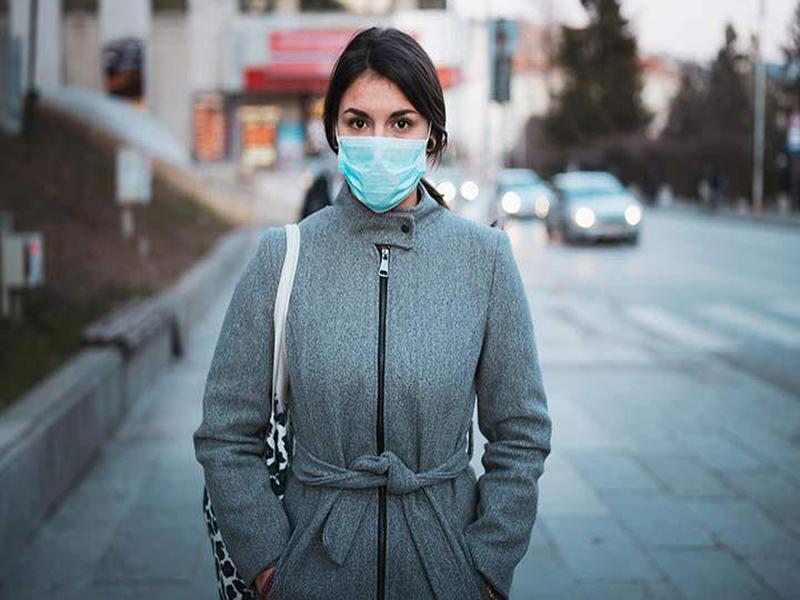with_mask: (337, 68, 433, 213)
